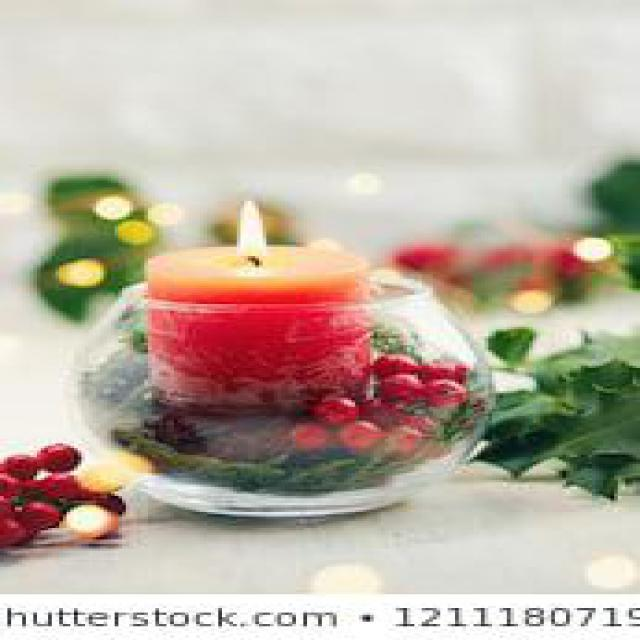Fire: (232, 199, 266, 263)
